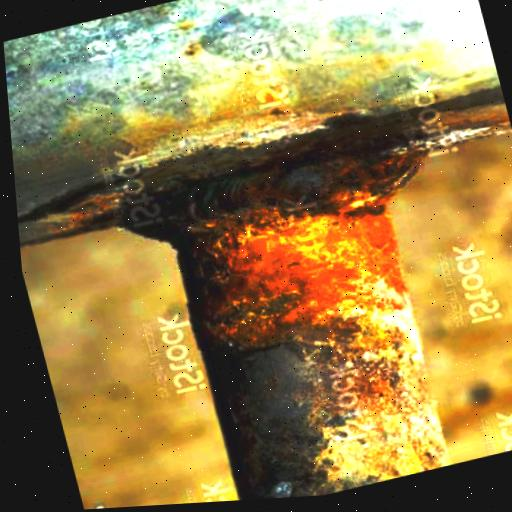corrosion: (131, 99, 499, 412)
